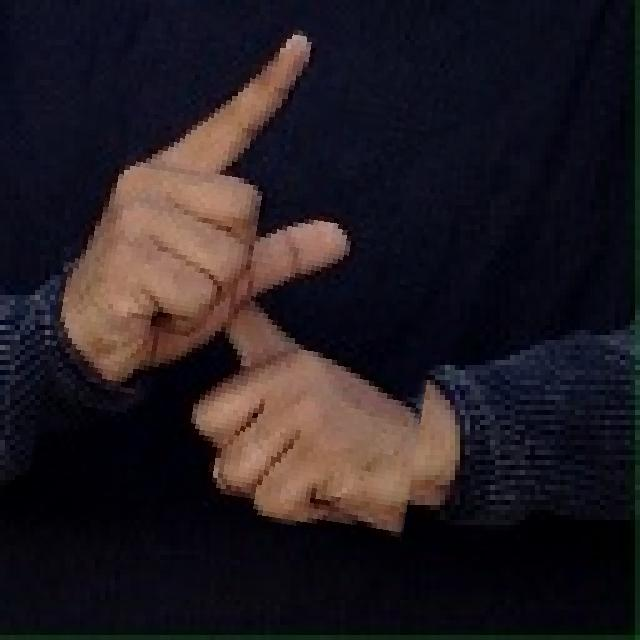Y: (45, 8, 460, 529)
